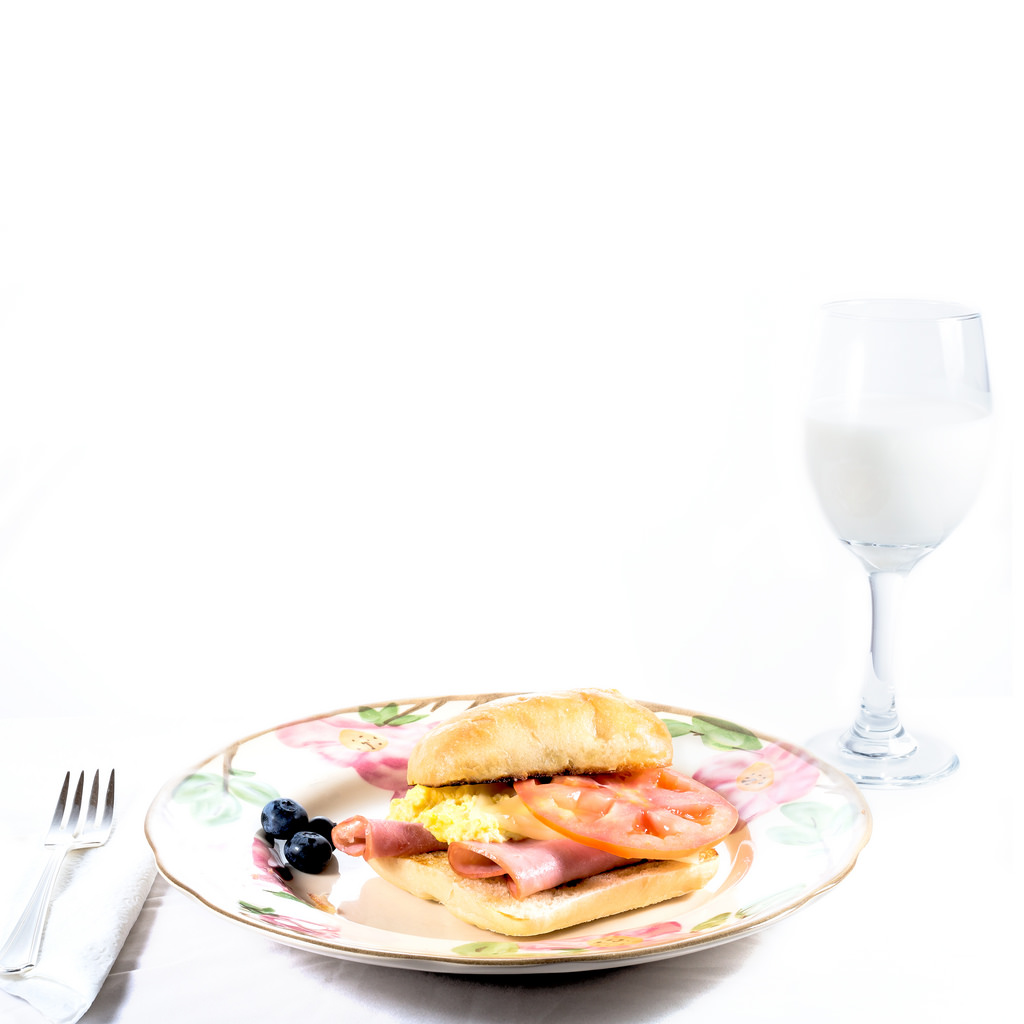glass of milk: (788, 279, 1007, 824)
slice of bread: (359, 846, 728, 946), (390, 681, 686, 789)
